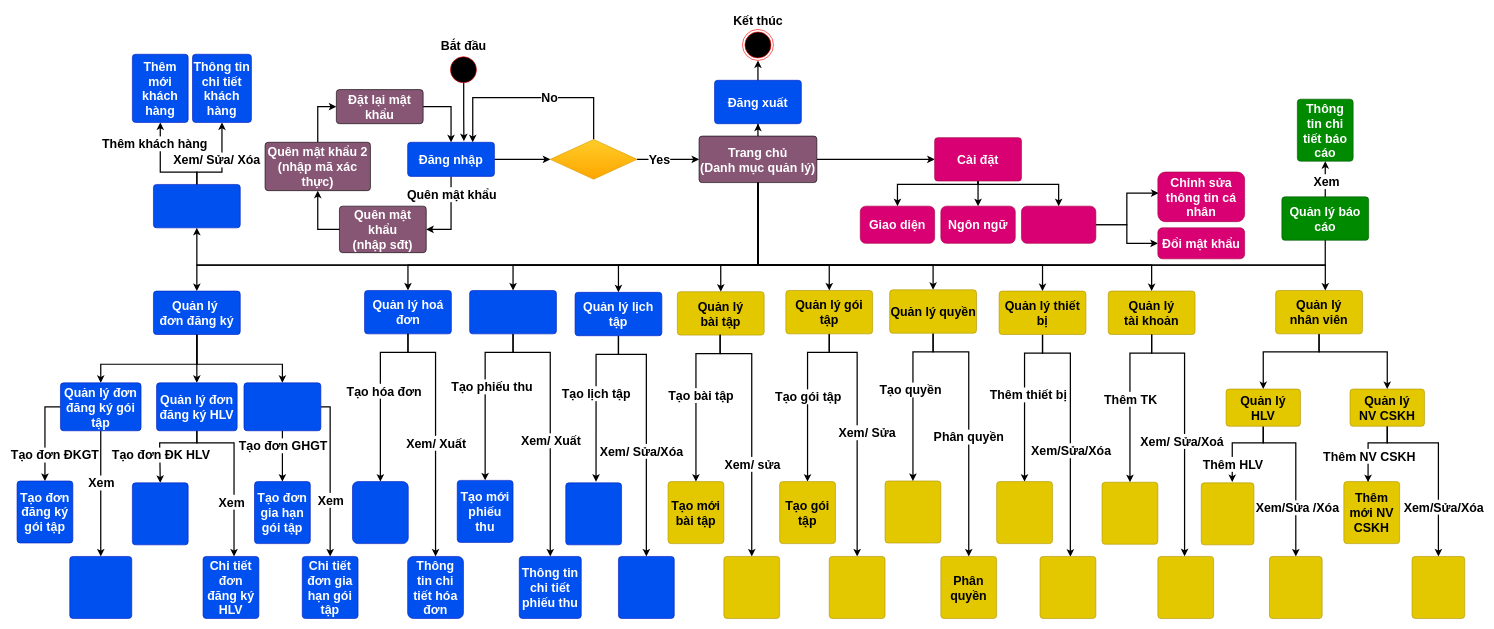
Some shapes in this 1494 by 629 pixel diagram are drawn without their labels. Here are the shapes that lost their labels. From the top down, the centre of each, then its label:
At (593,159): "Thông tin đúng".
At (196,206): "Quản lý khách hàng".
At (1058,224): "Cài đặt tài khoản".
At (512,312): "Quản lý phiếu thu".
At (282,406): "Quản lý đơn gia hạn gói tập".
At (160,513): "Tạo đơn đăng ký HLV".
At (380,512): "Tạo mới hóa đơn".
At (593,513): "Tạo mới lịch tập".
At (912,511): "Thêm mới quyền".
At (1024,512): "Thêm mới thiết bị".
At (1129,513): "Thêm mới TK".
At (1227,513): "Thêm mới HLV".
At (100,587): "Chi tiết đơn đăng ký gói tập".
At (646,587): "Thông tin chi tiết lịch tập".
At (751,587): "Thông tin chi tiết bài tập".
At (857,587): "Chi tiết gói tập".
At (1067,587): "Thông tin chi tiết thiết bị".
At (1185,587): "Thông tin chi tiết TK".
At (1295,587): "Thông tin chi tiết HLV".
At (1438,587): "Thông tin chi tiết NV CSKH".
